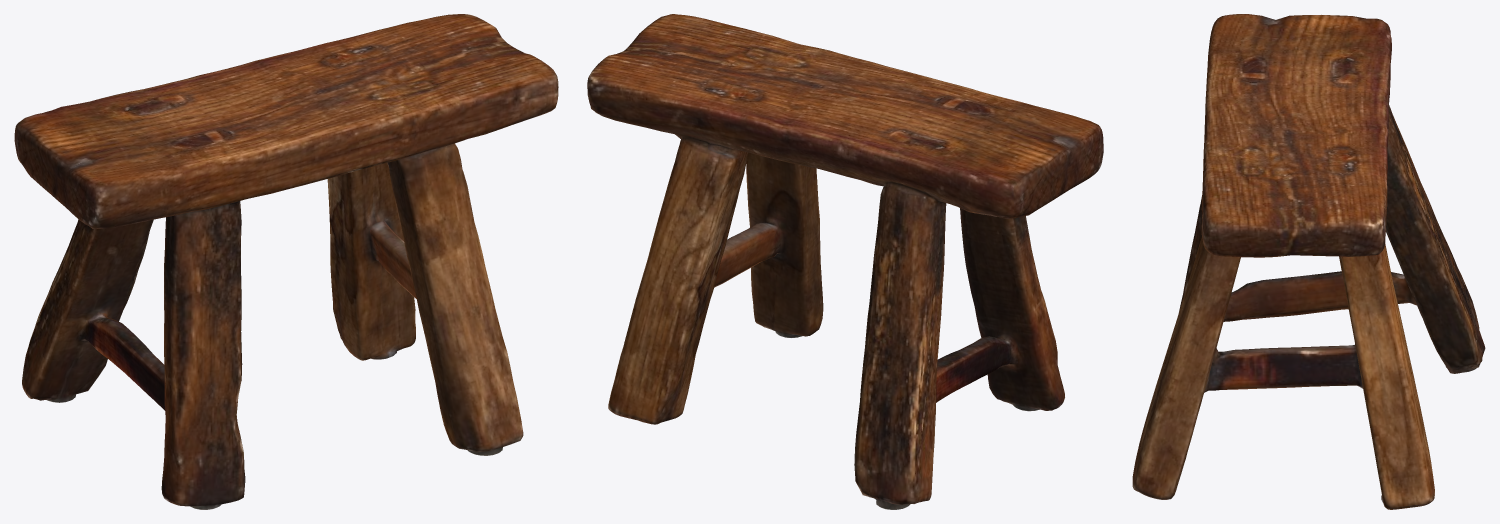
File: wooden_stool_02.glb
3 views of the same model, side by side, from view 1: azimuth 30°, elevation 25°; view 2: azimuth 150°, elevation 25°; view 3: azimuth 270°, elevation 25° (orthographic). The views are drawn at different scales.
Parts seen in each view (by area): view 1: wooden_stool_02; view 2: wooden_stool_02; view 3: wooden_stool_02.
Part boxes in pixels (left/top/right/bottom): wooden_stool_02: left=14, top=14, right=558, bottom=509; wooden_stool_02: left=587, top=14, right=1103, bottom=509; wooden_stool_02: left=1132, top=14, right=1485, bottom=509.
Bounding box in the file's own units: 0.2652 × 0.1819 × 0.1831.
1 material, 1 textured.
